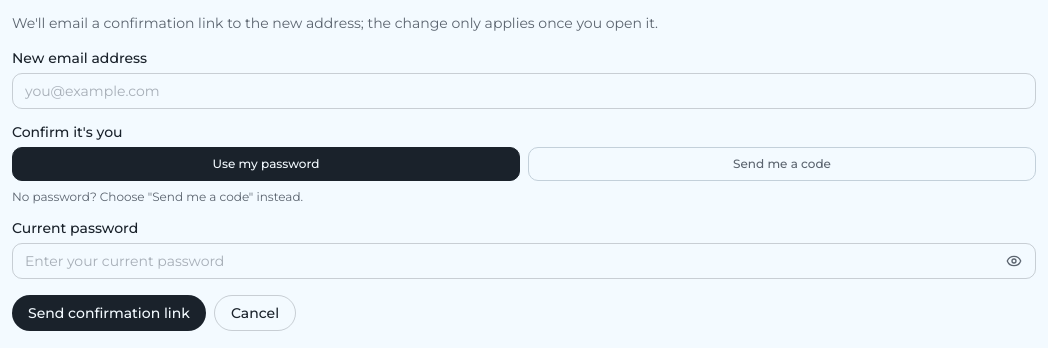
Test: ChangeEmailForm › password re-auth posts {newEmail, currentPassword} then shows the inbox state
The width and height of the screenshot is (1048, 348).
In the field labelled "New email address": (524, 91) 12,73 -> 1036,109, type "new@example.com"
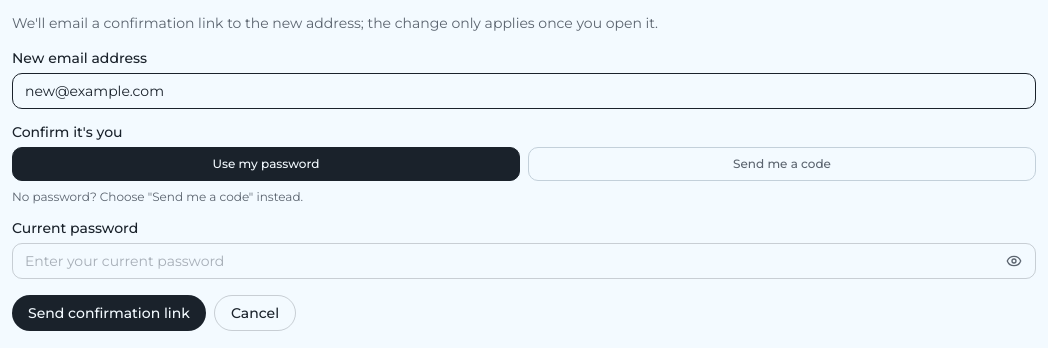
In the password field labelled "Current password": (524, 261) 12,243 -> 1036,279, type "secret-pass"
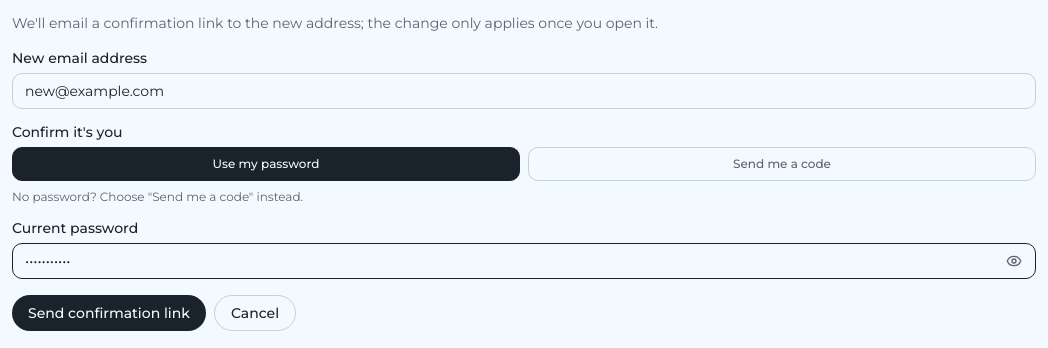
Click the button "Send confirmation link": (109, 313) 12,295 -> 206,331
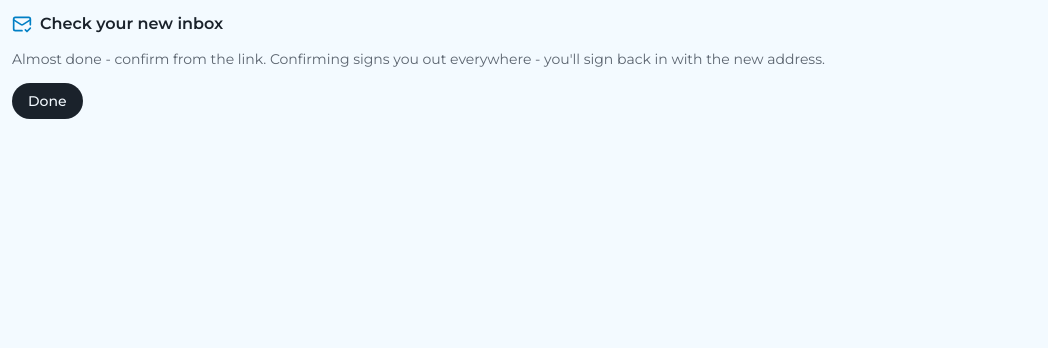
Result: the text "Check your new inbox" is shown at 12,14 -> 223,34
